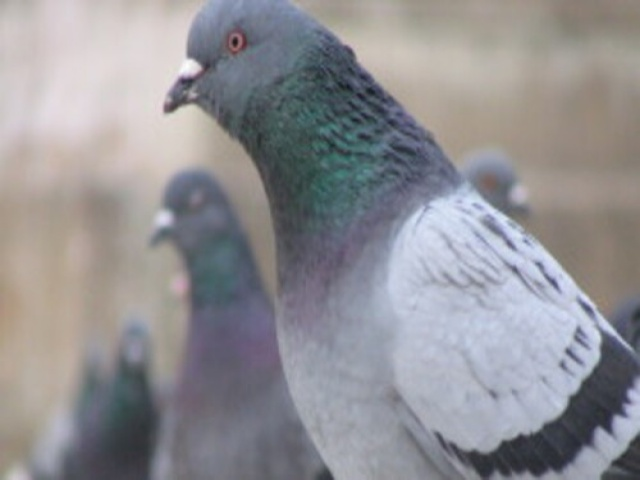Pigeon: (158, 1, 631, 480)
